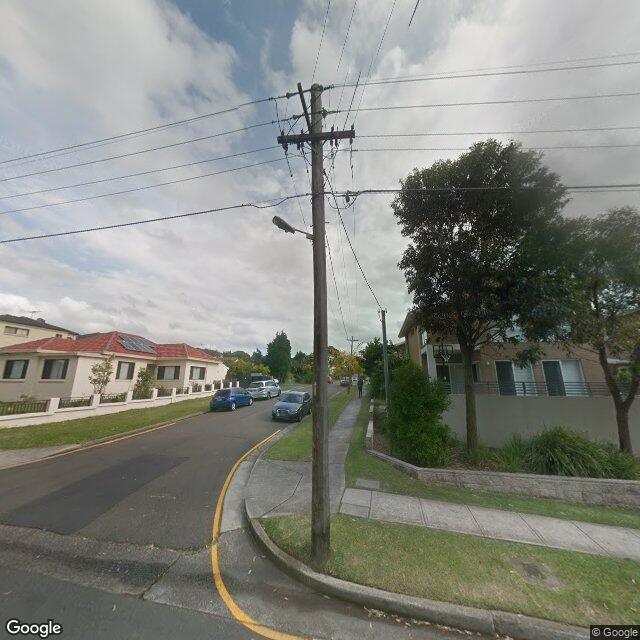crossarm: (277, 130, 355, 144), (296, 82, 313, 134), (346, 339, 359, 342)
steel-pole: (380, 310, 392, 457)
streetlight: (272, 216, 314, 240)
timber-pole: (311, 84, 331, 570), (351, 335, 354, 356)
